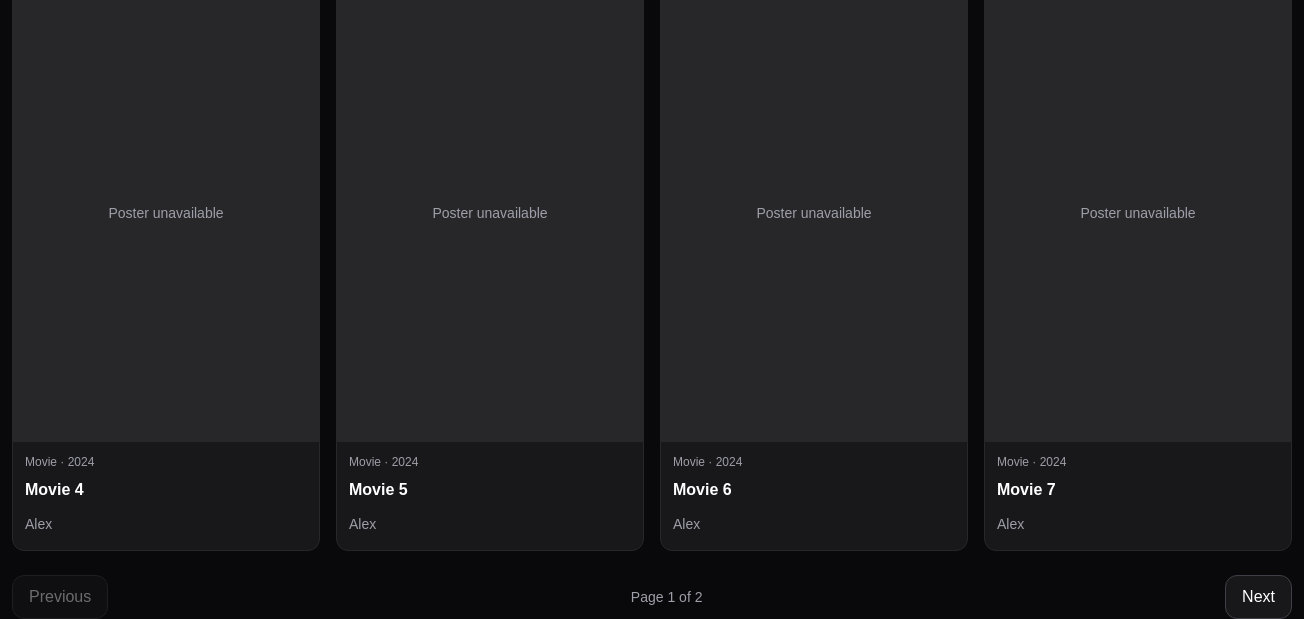
Test: PersonFilmography › resets pagination when searching for a title
The image size is (1304, 619).
(page scrolled)
Click the button "Next" at [1259, 597], box x1=1225 y1=575 x2=1292 y2=618
(page scrolled)
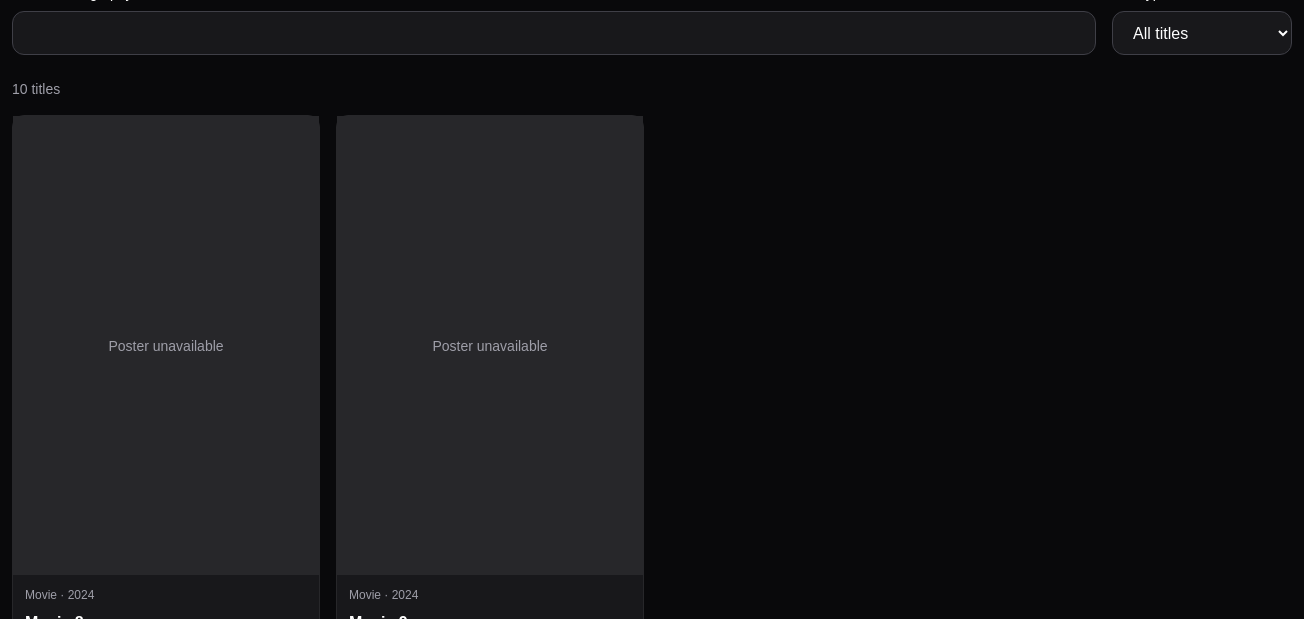
Type "Movie 3" into the search field labelled "Search filmography" at [554, 33], box x1=12 y1=11 x2=1096 y2=55
(page scrolled)
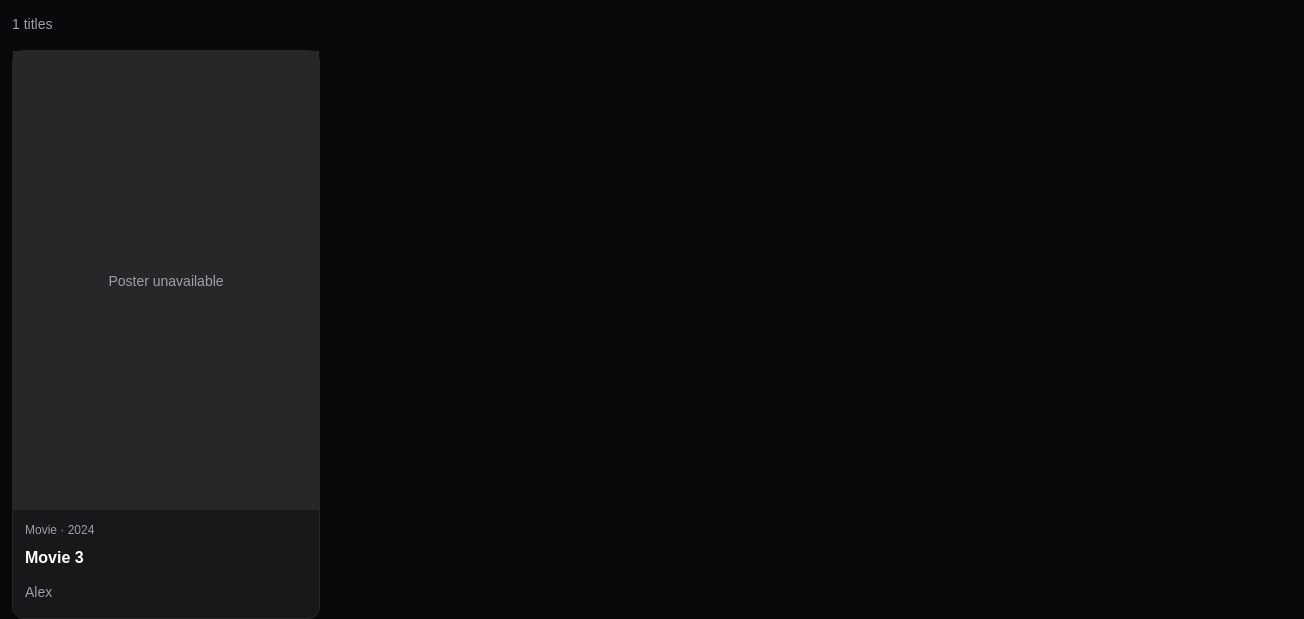
Now the heading "Movie 3" is shown, box x1=25 y1=549 x2=84 y2=566
